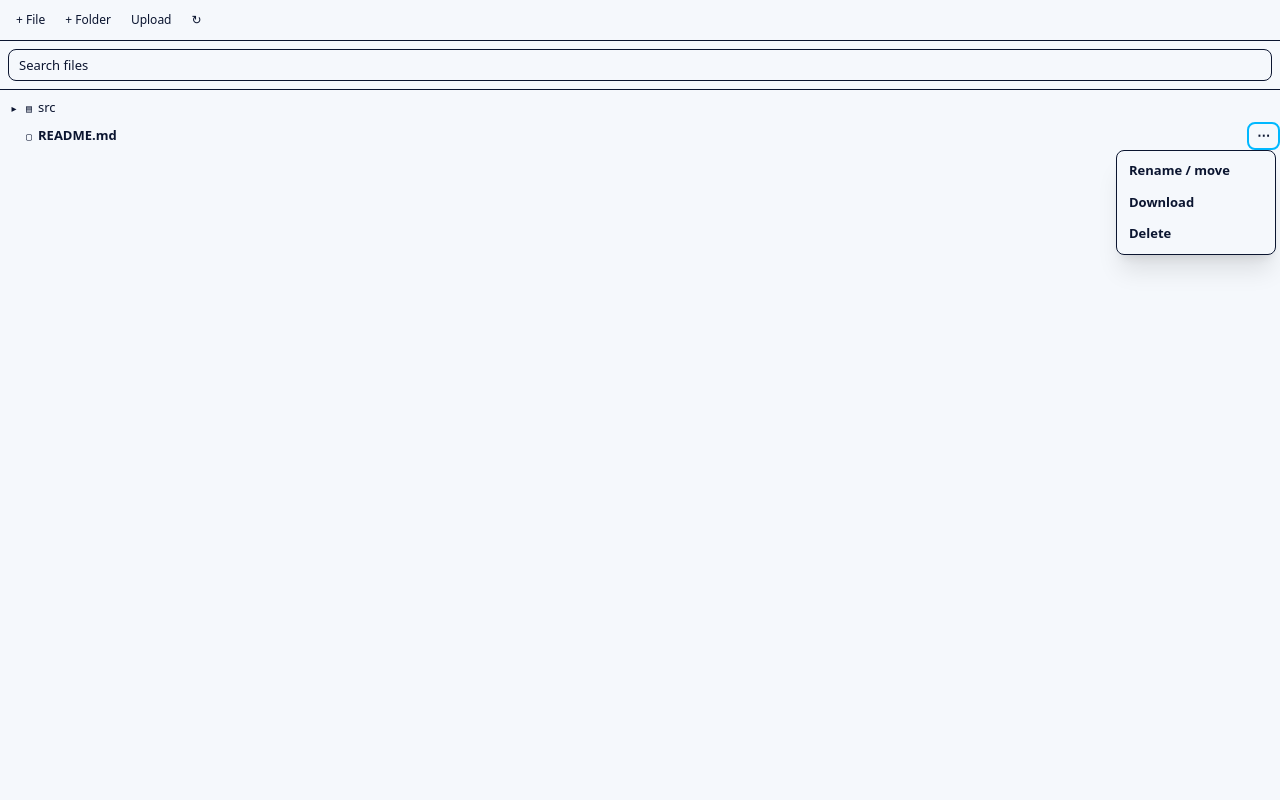
Test: FileTree › renames/moves with the path field and reports the change
Earlier steps of the test are not shown.
Later steps or results of the test are not shown.
What coordinates should you click on to do the following:
click the menu item "Rename / move"
I would click on:
 (1196, 171)
Its box is [1117,155,1275,187].
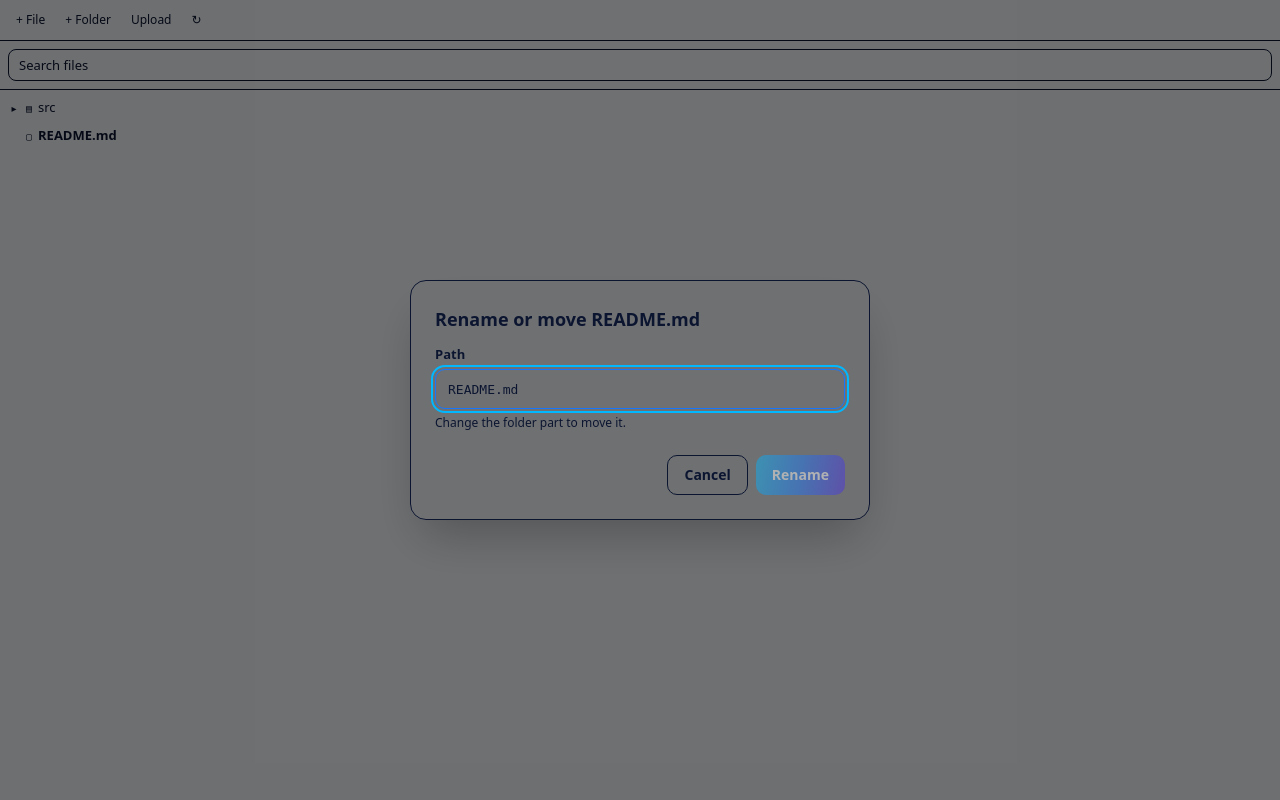
Expected: the field labelled "Path" holds "README.md", [435,369,845,409]
